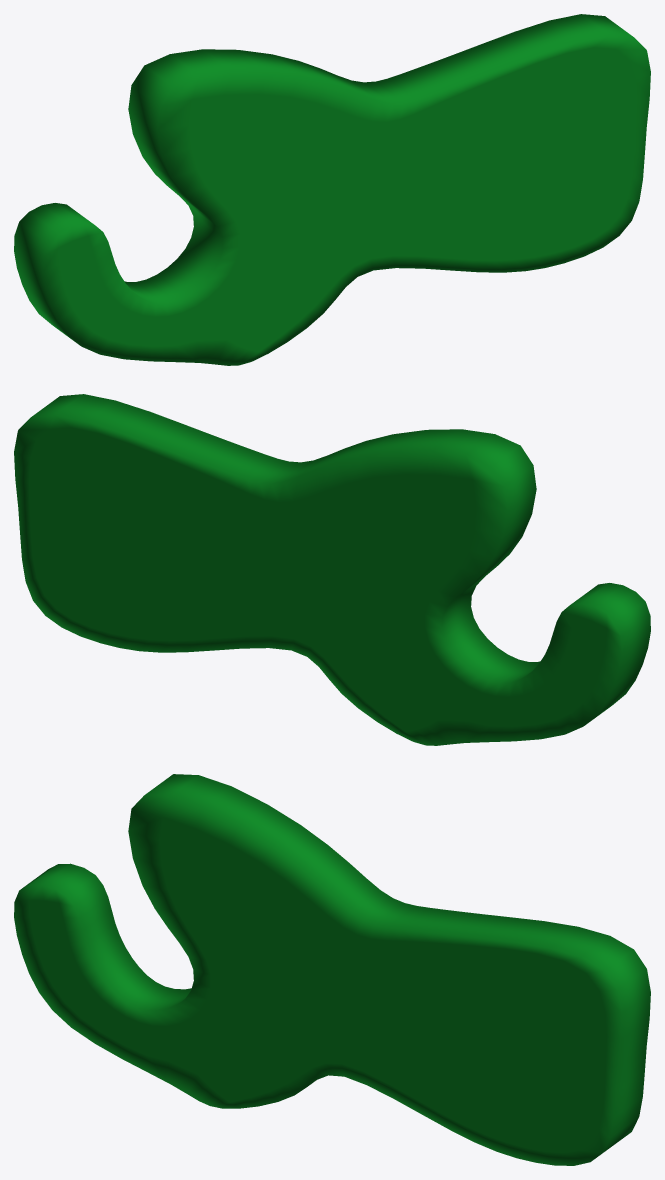
File: grip_06.fbx
The picture shows the model from 3 angles, top to bottom: view 1: azimuth 30°, elevation 25°; view 2: azimuth 150°, elevation 25°; view 3: azimuth 330°, elevation 25°; orthographic projection.
Parts seen in each view (by area): view 1: Plane; view 2: Plane; view 3: Plane.
Part boxes in pixels (x1,y1,x2,y2): Plane: (14, 14, 650, 365); Plane: (14, 394, 650, 745); Plane: (14, 774, 650, 1165).
Size of the model in its own units: 1052 by 496 by 87.
